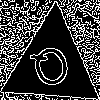Q: (27, 39, 78, 100)
